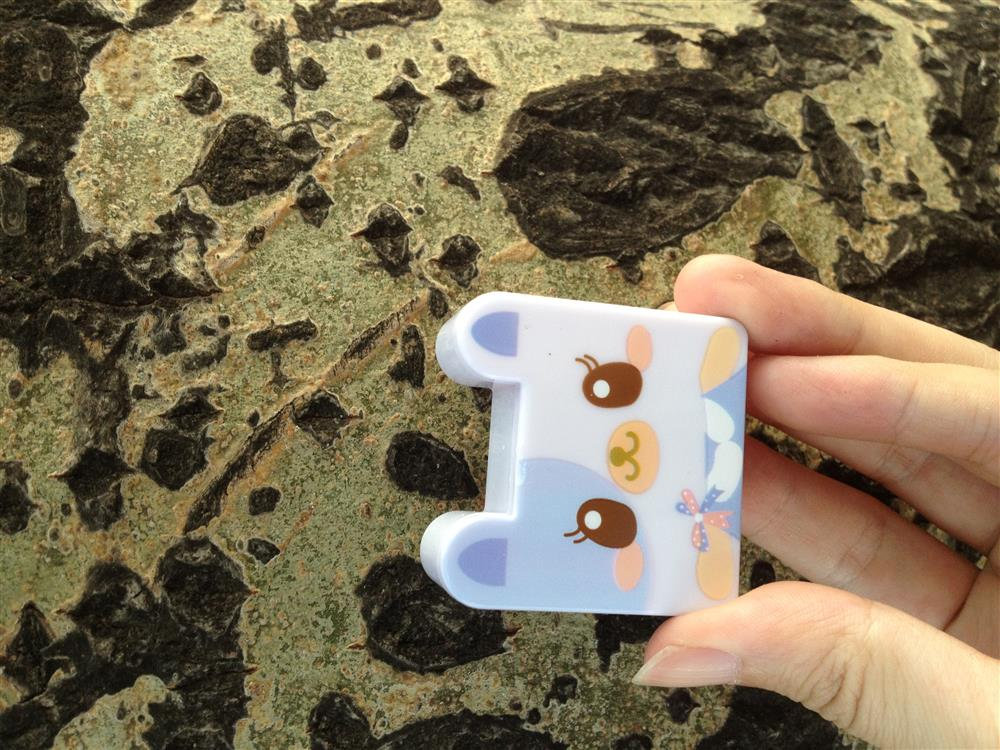dog_sharpener: (417, 292, 746, 621)
